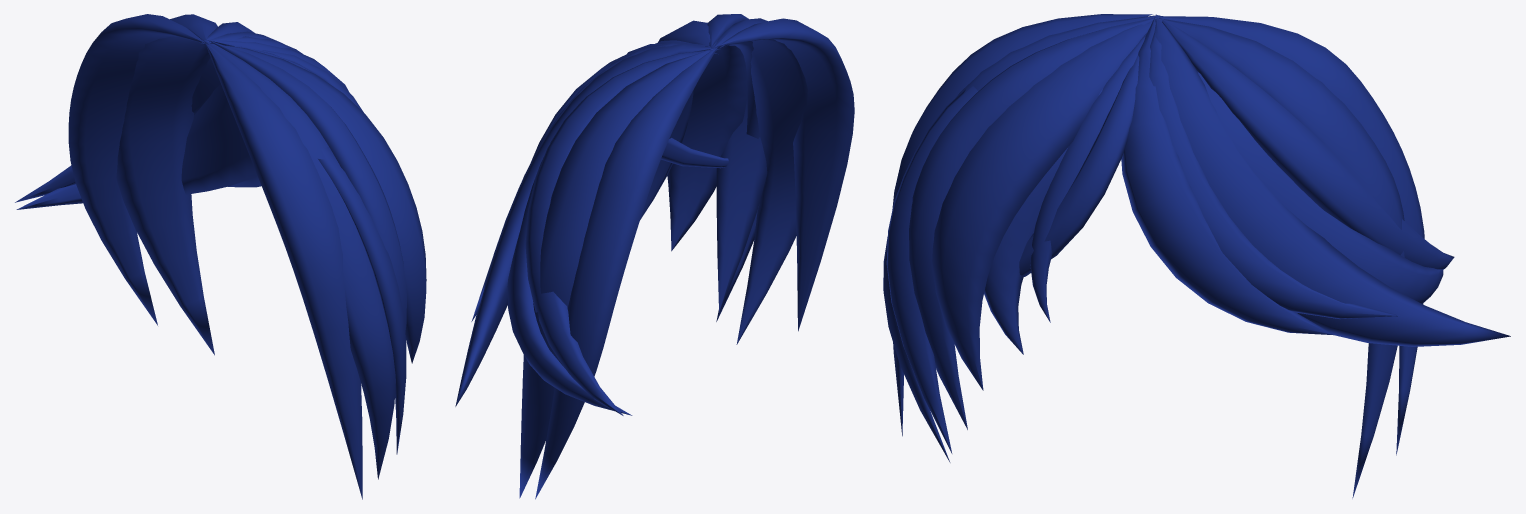
The model's file is doremy_hair_front.glb.
3 renders of one model, left to right at view 1: azimuth 30°, elevation 25°; view 2: azimuth 150°, elevation 25°; view 3: azimuth 270°, elevation 25°, orthographic. The views are drawn at different scales.
Parts seen in each view (by area): view 1: doremy_hair_front; view 2: doremy_hair_front; view 3: doremy_hair_front.
Part boxes in pixels (x1,y1,x2,y2): doremy_hair_front: (15,14,426,499); doremy_hair_front: (455,14,854,499); doremy_hair_front: (883,14,1510,498).
Bounding box in the file's own units: 0.7864 × 1.4 × 1.84.
